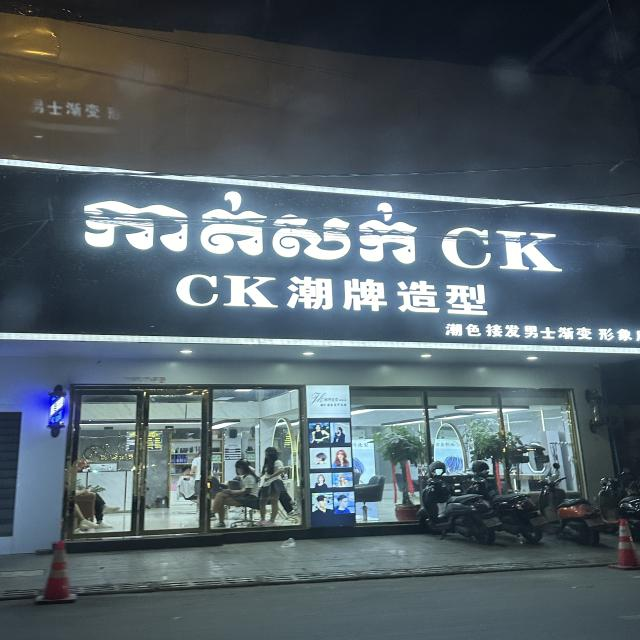Yolov11_80vkh: (67, 190, 436, 283)
